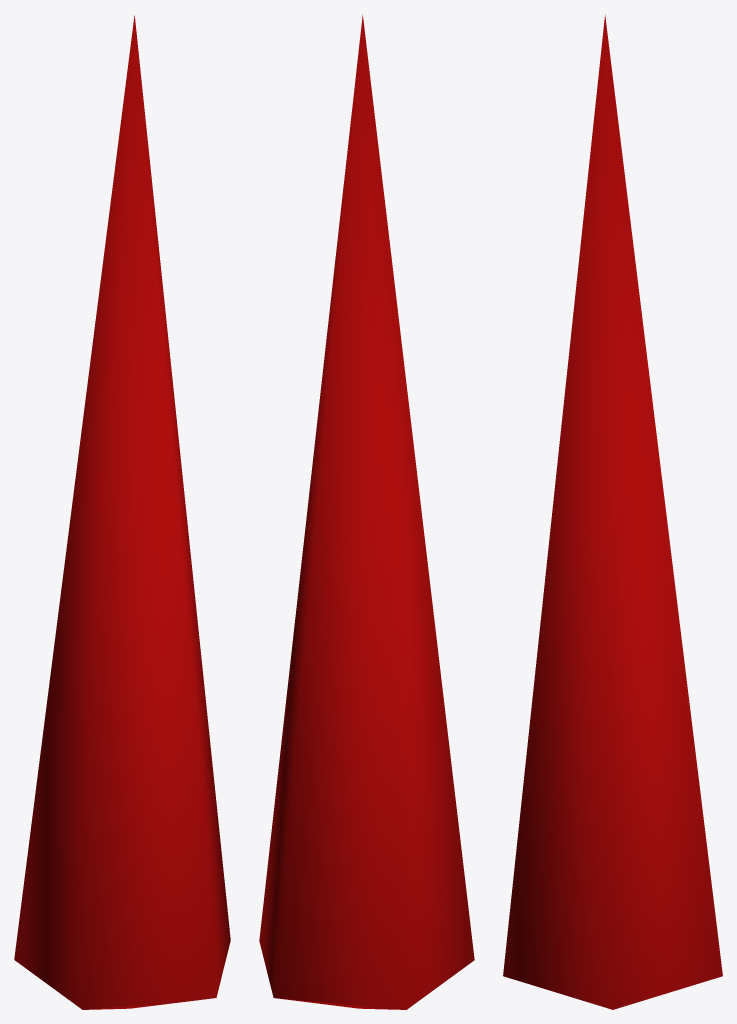
The model's file is SM_Env_Tree_Banana_01_Collision.glb.
3 renders of one model, left to right at view 1: azimuth 30°, elevation 25°; view 2: azimuth 150°, elevation 25°; view 3: azimuth 270°, elevation 25°, orthographic.
Parts seen in each view (by area): view 1: SM_Env_Tree_Banana_01_Collision; view 2: SM_Env_Tree_Banana_01_Collision; view 3: SM_Env_Tree_Banana_01_Collision.
Part boxes in pixels (left/top/right/bottom): SM_Env_Tree_Banana_01_Collision: left=14, top=15, right=230, bottom=1009; SM_Env_Tree_Banana_01_Collision: left=259, top=14, right=474, bottom=1009; SM_Env_Tree_Banana_01_Collision: left=503, top=14, right=722, bottom=1009.
Bounding box in the file's own units: 0.7406 × 3.87 × 0.7787.
